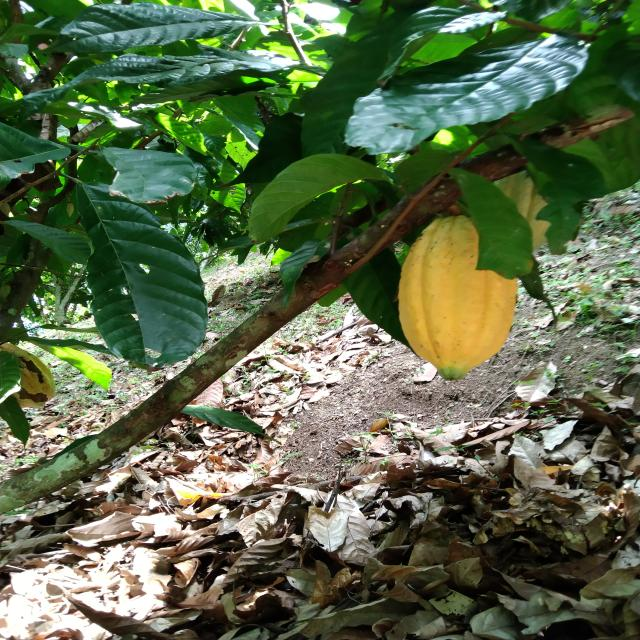Sana: (399, 215, 521, 378)
